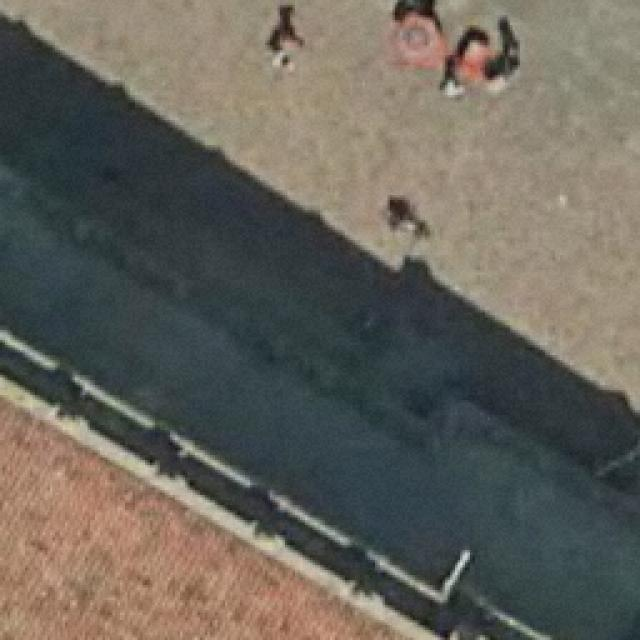vendedor_ambulante: (392, 6, 442, 70)
